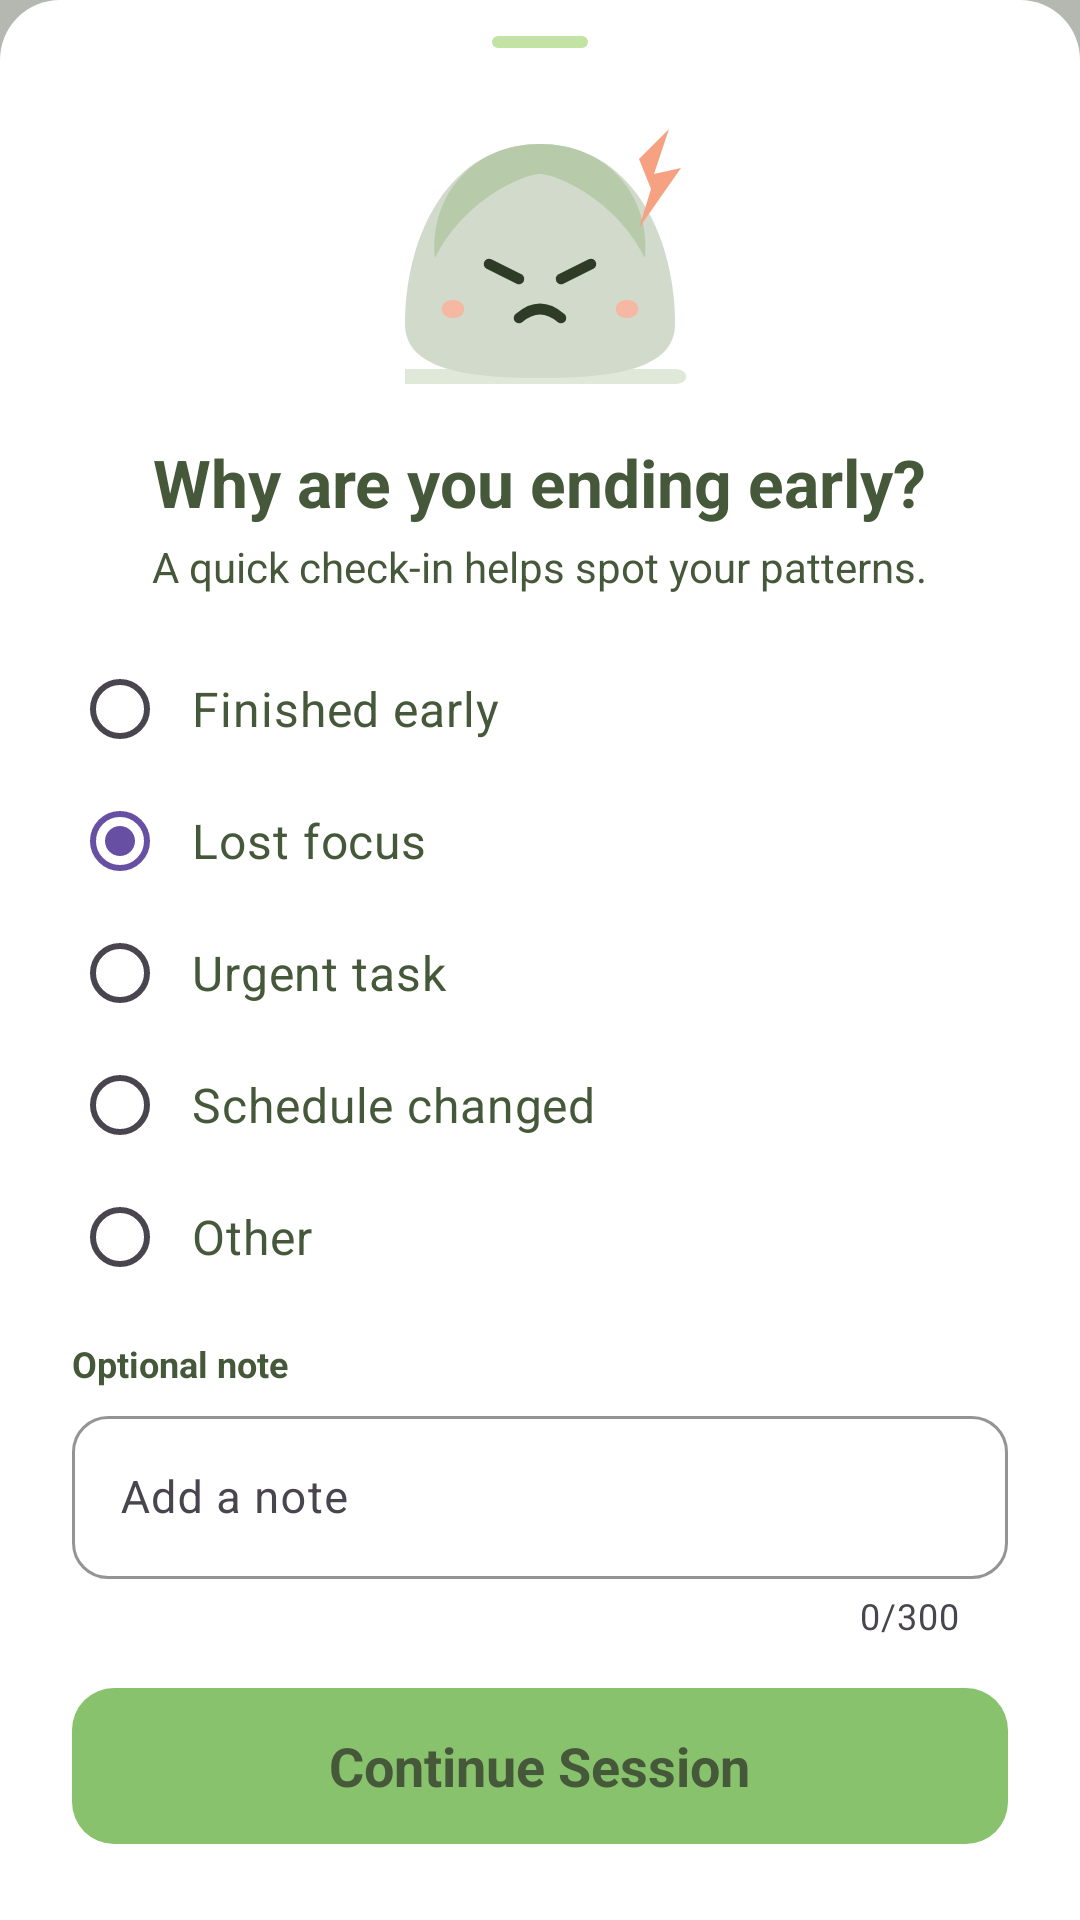

Icon click points for this 1080px×1920px phone screenshot, format (x=x, y=y):
Distracted Mascot: (x=545, y=256)
